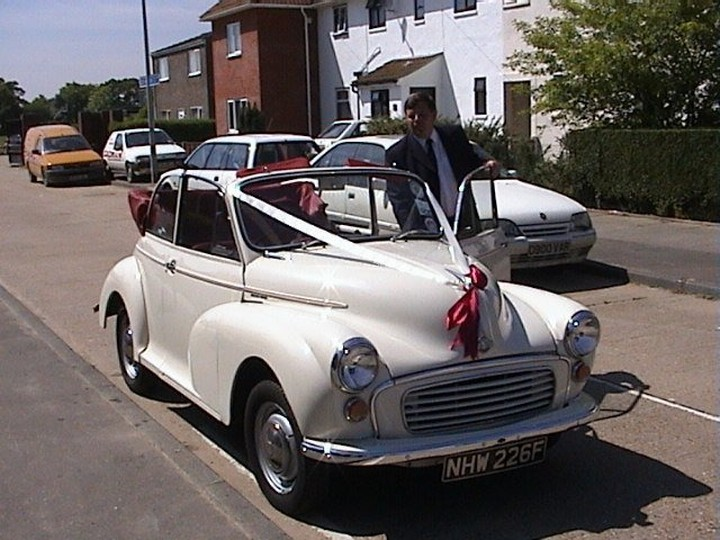car: (110, 169, 608, 491)
